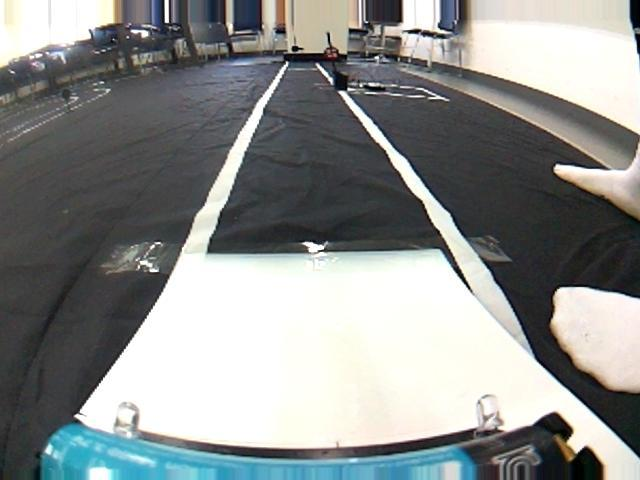hill_down: (68, 222, 545, 448)
